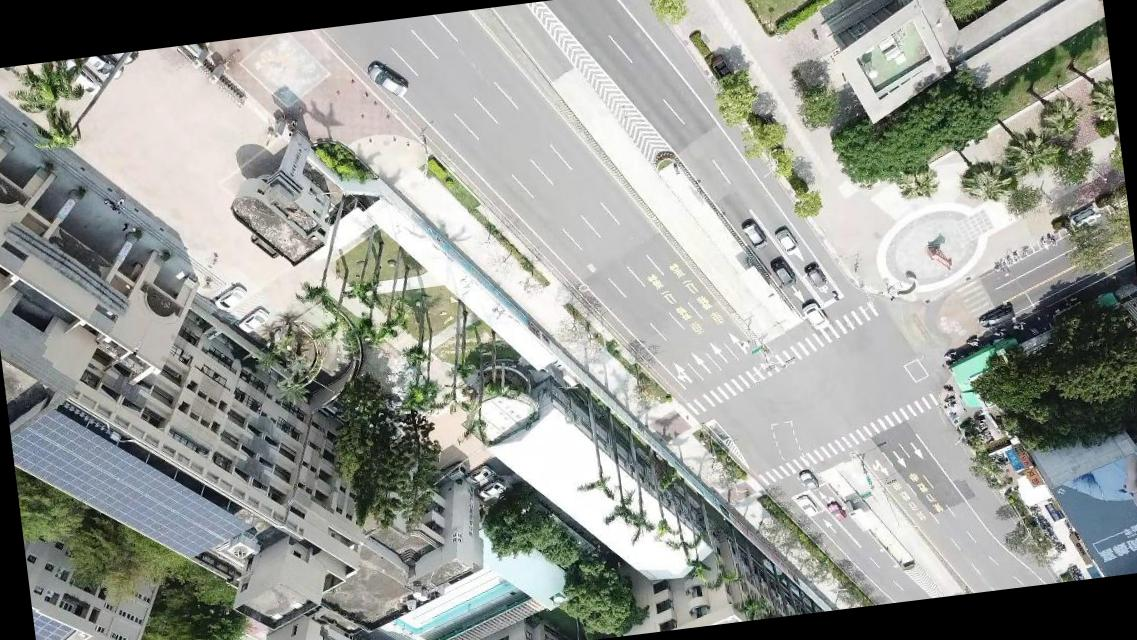vehicle: (362, 59, 408, 103), (57, 58, 102, 102), (86, 53, 122, 84), (233, 306, 270, 334), (976, 303, 1016, 328), (212, 283, 250, 309), (799, 298, 826, 332), (740, 219, 764, 250), (772, 258, 793, 292), (437, 461, 468, 484), (462, 463, 492, 485), (801, 263, 825, 289), (477, 480, 508, 500), (776, 227, 796, 254), (797, 494, 818, 518), (824, 498, 845, 521), (799, 470, 818, 490)
